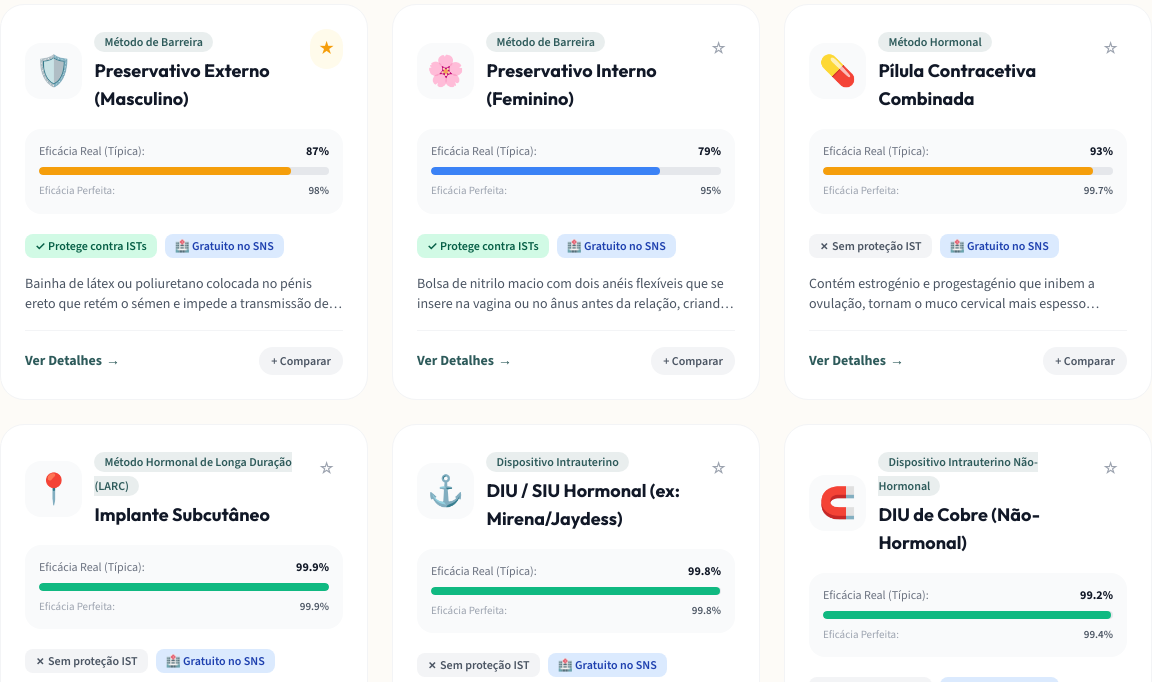
Scenario: ContraceptiveComparator › toggles compare mode when '+ Comparar' button clicked on first method
The image size is (1152, 682).
(page scrolled)
Click the button "+ Comparar" below "98": click(301, 360) top-left (259, 346), bottom-right (343, 374)
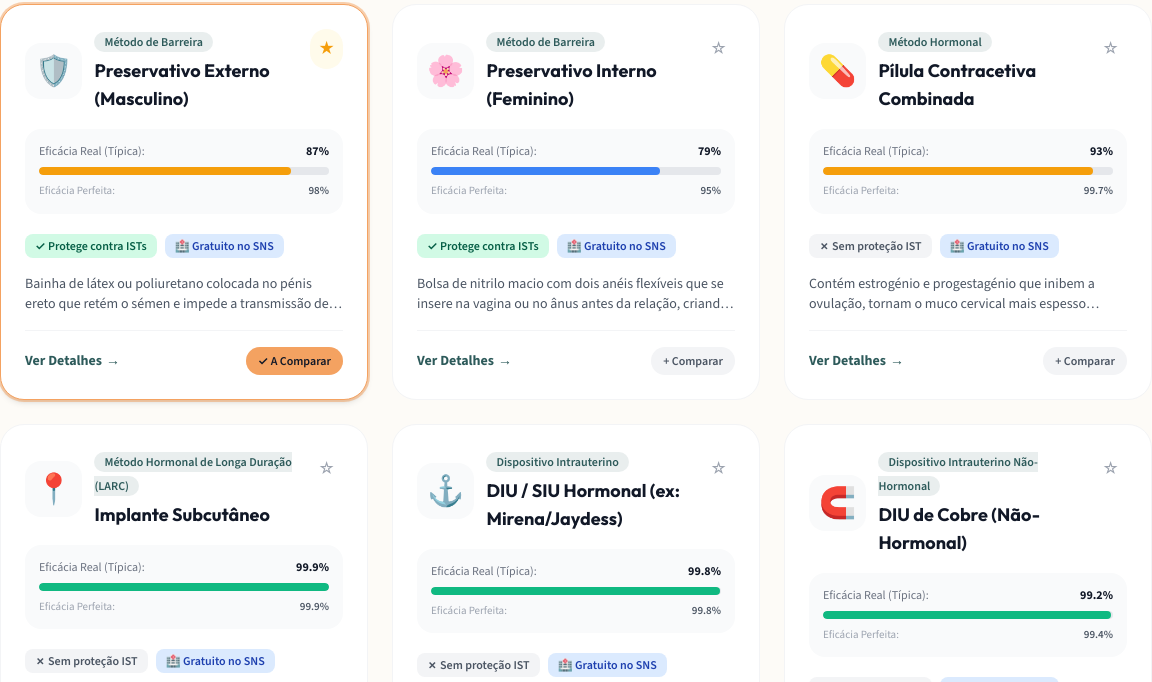
Check: the button "✓ A Comparar" is shown, box top-left (246, 346), bottom-right (343, 374)
